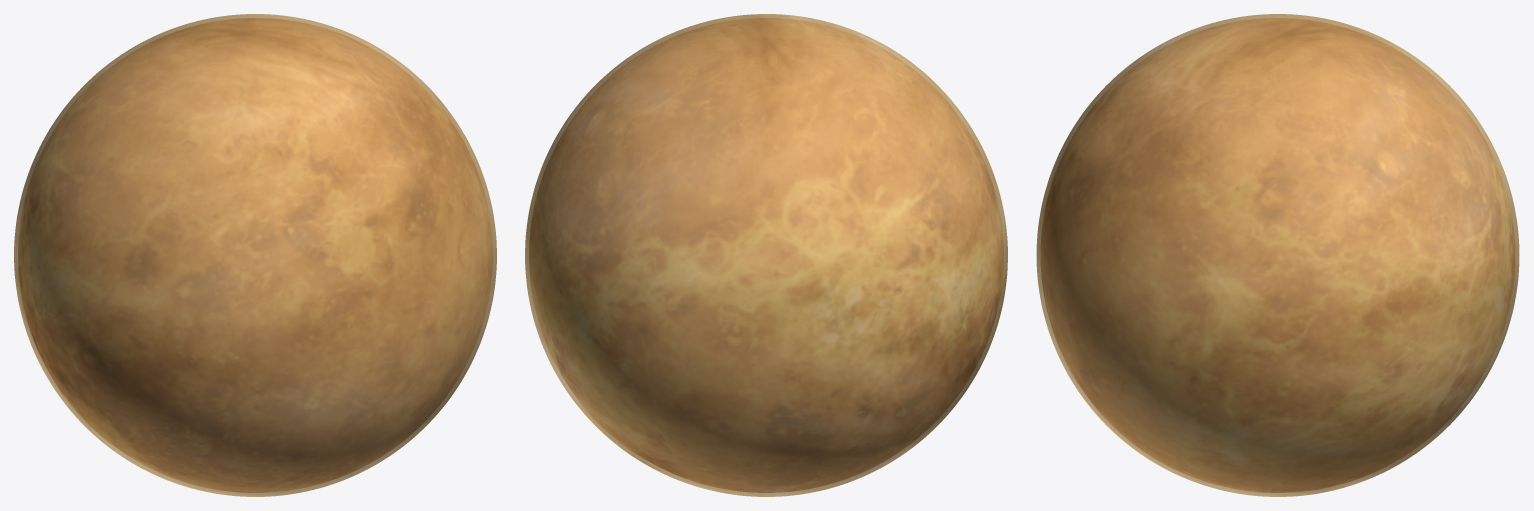
The model's file is venus.gltf.
3 views of the same model, side by side, from view 1: azimuth 30°, elevation 25°; view 2: azimuth 150°, elevation 25°; view 3: azimuth 270°, elevation 25° (orthographic).
Visible parts, largest first — view 1: Clouds, Earth; view 2: Clouds, Earth; view 3: Clouds, Earth.
Part boxes in pixels (x1,y1,x2,y2): Clouds: [14, 14, 496, 496]; Earth: [18, 18, 492, 492]; Clouds: [525, 14, 1007, 496]; Earth: [529, 18, 1003, 492]; Clouds: [1036, 14, 1519, 496]; Earth: [1041, 18, 1514, 492].
Bounding box in the file's own units: 102 × 102 × 102.
Materials: 2 (2 with a texture image).
